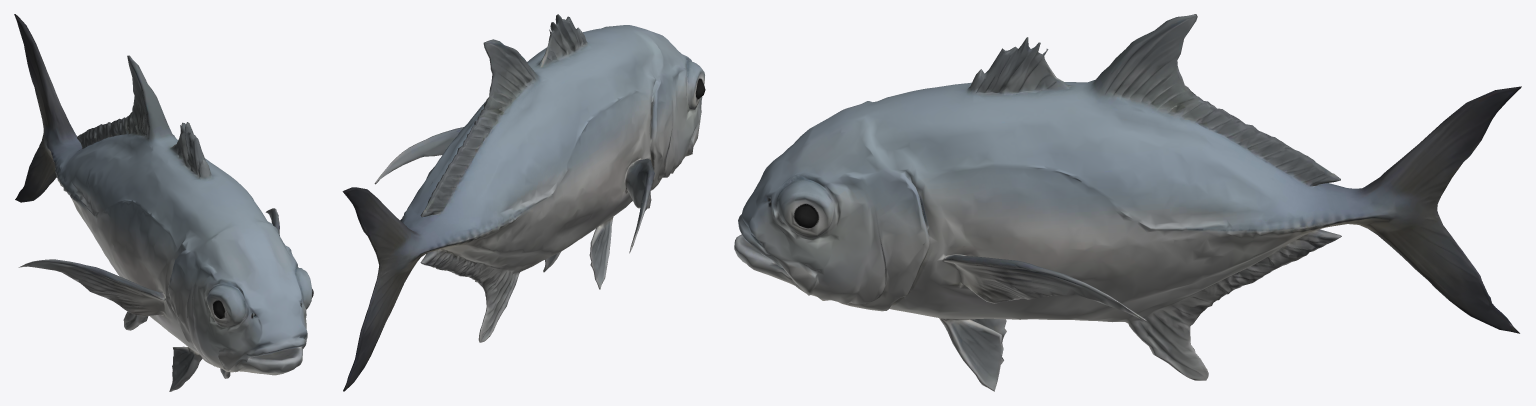
File: jack.glb
3 renders of one model, left to right at view 1: azimuth 30°, elevation 25°; view 2: azimuth 150°, elevation 25°; view 3: azimuth 270°, elevation 25°, orthographic. The views are drawn at different scales.
Parts seen in each view (by area): view 1: tripo_node_6bf4921b-9981-498b-ad33-ddc708bc24c8; view 2: tripo_node_6bf4921b-9981-498b-ad33-ddc708bc24c8; view 3: tripo_node_6bf4921b-9981-498b-ad33-ddc708bc24c8.
Boxes of the visible parts, box(x1,y1,x2,y2) form: tripo_node_6bf4921b-9981-498b-ad33-ddc708bc24c8: box(14, 14, 313, 391); tripo_node_6bf4921b-9981-498b-ad33-ddc708bc24c8: box(342, 14, 705, 391); tripo_node_6bf4921b-9981-498b-ad33-ddc708bc24c8: box(734, 14, 1521, 391).
Size of the model in its own units: 0.4725 by 0.5123 by 0.9996.
Materials: 1 (1 with a texture image).
